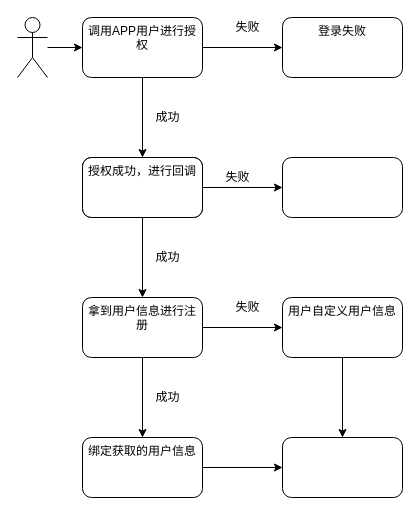
Some shapes in this 420 by 515 pixel diagram are drawn without their labels. Each missing label, with the centre of its shape:
Actor: the point at 32,47
拒绝授权，授权失败: the point at 342,187
注册成功！: the point at 342,467
